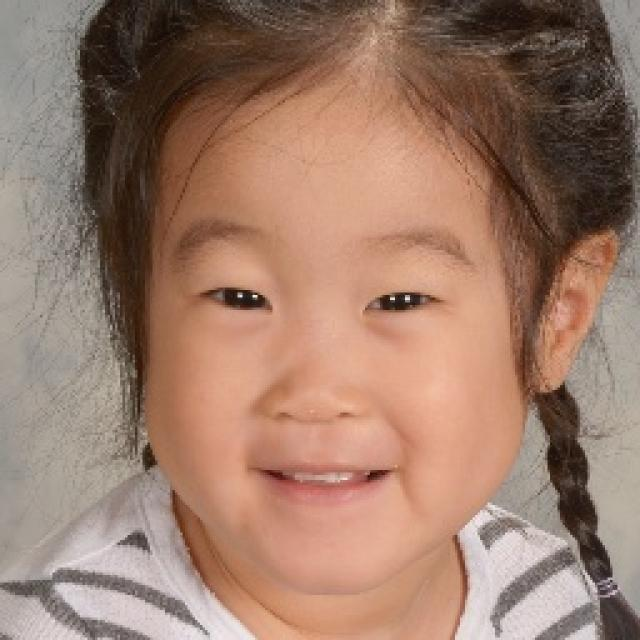earlobe: (528, 335, 568, 394)
eye: (364, 288, 444, 316), (196, 285, 273, 312)
nose: (260, 404, 374, 457)
wholeear: (528, 227, 620, 394)
